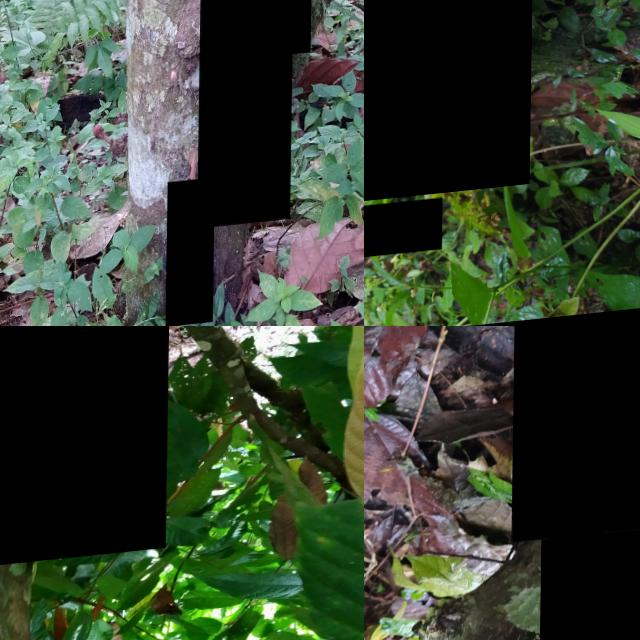Fitoftora: (0, 326, 169, 570), (539, 512, 640, 640), (364, 206, 444, 272)
Monilia: (364, 0, 533, 221), (512, 326, 640, 549), (198, 0, 294, 235), (167, 185, 216, 326), (236, 0, 312, 67)
